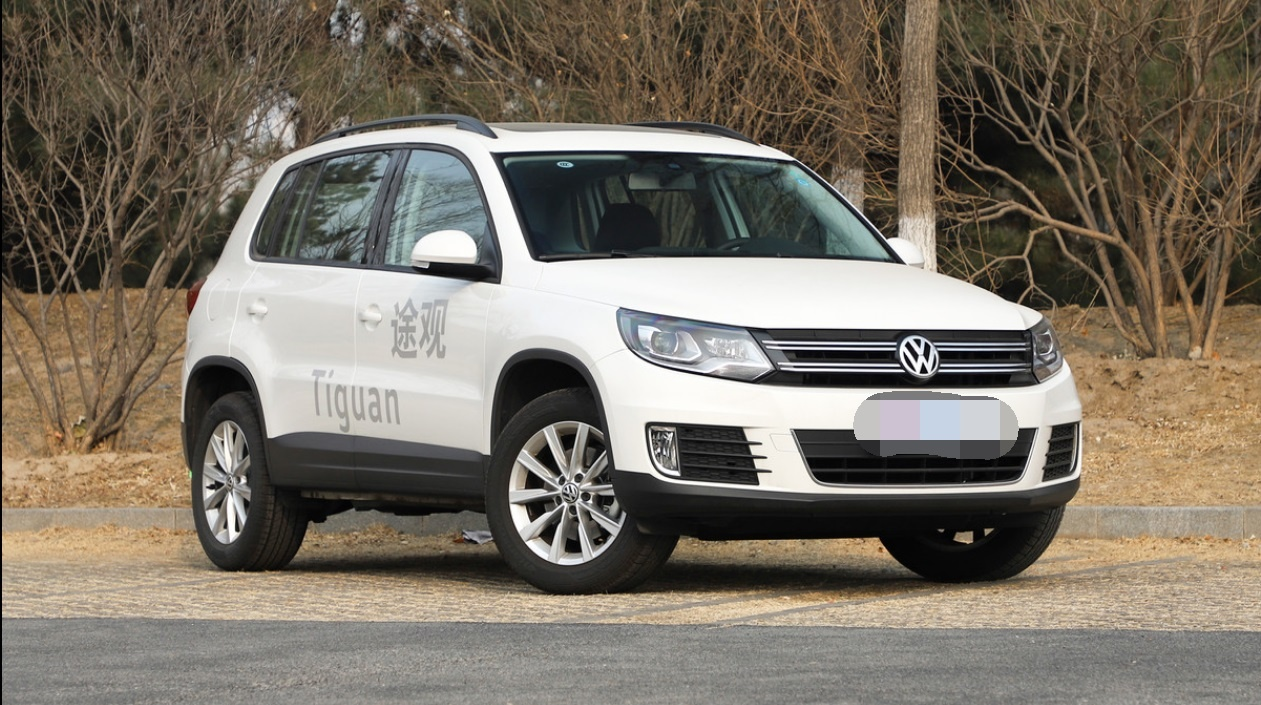SUV: (187, 120, 1096, 598)
